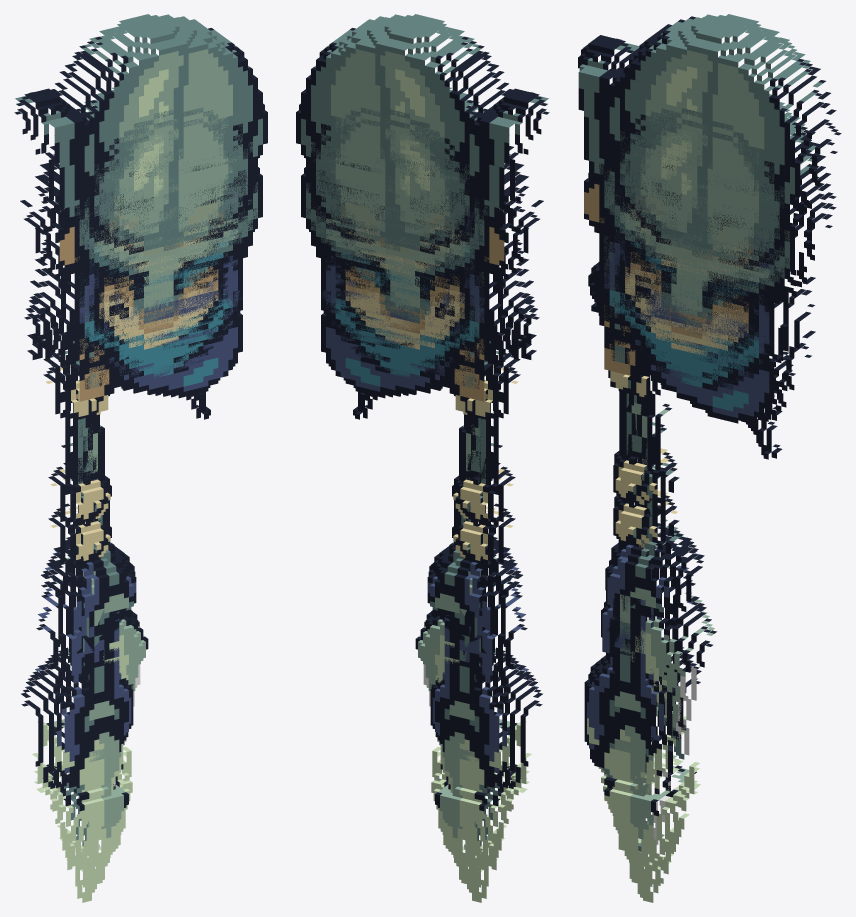
File: lanceiro_golpe_baixo.glb
3 views of the same model, side by side, from view 1: azimuth 30°, elevation 25°; view 2: azimuth 150°, elevation 25°; view 3: azimuth 330°, elevation 25° (orthographic). The views are drawn at different scales.
Parts seen in each view (by area): view 1: q0, q2, q1; view 2: q0, q2, q1; view 3: q0, q2, q1.
Boxes of the visible parts, x1,y1,x2,y2 form: q0: (27, 105, 262, 902); q2: (14, 14, 267, 745); q1: (21, 87, 262, 902); q0: (301, 105, 536, 902); q2: (296, 14, 549, 745); q1: (301, 87, 542, 902); q0: (598, 119, 836, 902); q2: (578, 14, 841, 759); q1: (584, 94, 836, 902).
Bounding box in the file's own units: 47 × 165 × 14.
Materials: 1 (1 with a texture image).
